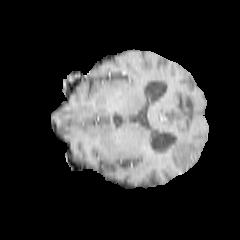glioma: (170, 136, 198, 169)
